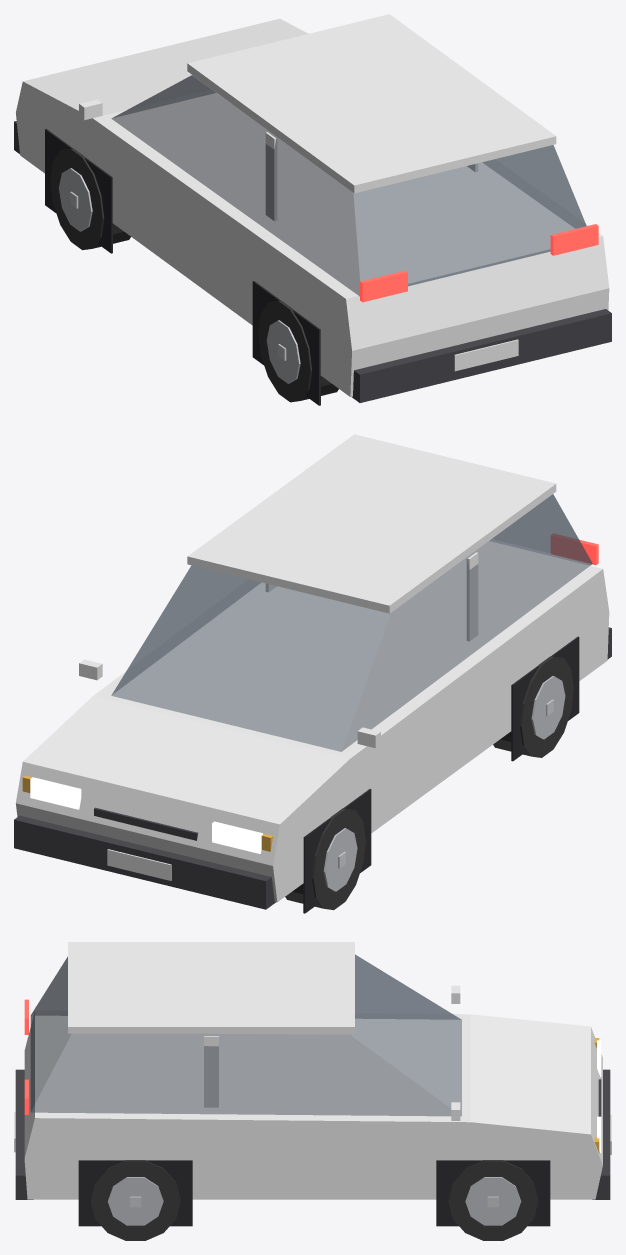
Rendered from compact.glb.
3 views of the same model, one above another, from view 1: azimuth 30°, elevation 25°; view 2: azimuth 150°, elevation 25°; view 3: azimuth 270°, elevation 25° (orthographic). The views are drawn at different scales.
Visible parts, largest first — view 1: body, cabin, roof, bumper_rear, wheel_lf, wheel_lb, arch_lb, arch_lf, plate_rear, pillar_b-1, taillight1, taillight-1; view 2: body, cabin, roof, bumper_front, wheel_lf, wheel_lb, arch_lf, arch_lb, headlight1, plate_front, headlight-1, pillar_b-1 (+2 smaller); view 3: body, cabin, roof, wheel_rf, wheel_rb, arch_rf, arch_rb, bumper_rear, bumper_front, pillar_b1.
Boxes of the visible parts, x1,y1,x2,y2 form: body: [16, 18, 609, 396]; cabin: [111, 75, 586, 296]; roof: [187, 14, 556, 193]; bumper_rear: [352, 309, 611, 402]; wheel_lf: [50, 148, 130, 250]; wheel_lb: [258, 300, 338, 402]; arch_lb: [252, 281, 320, 405]; arch_lf: [45, 128, 112, 253]; plate_rear: [454, 339, 518, 371]; pillar_b-1: [265, 132, 277, 221]; taillight1: [550, 224, 598, 255]; taillight-1: [360, 270, 407, 302]; body: [15, 541, 609, 902]; cabin: [111, 494, 592, 751]; roof: [187, 434, 556, 613]; bumper_front: [14, 815, 275, 909]; wheel_lf: [285, 808, 365, 910]; wheel_lb: [493, 656, 573, 757]; arch_lf: [303, 789, 371, 913]; arch_lb: [511, 636, 579, 761]; headlight1: [30, 777, 81, 809]; plate_front: [107, 849, 171, 880]; headlight-1: [212, 821, 262, 853]; pillar_b-1: [466, 552, 478, 641]; body: [24, 1010, 602, 1199]; cabin: [30, 954, 461, 1116]; roof: [68, 942, 354, 1033]; wheel_rf: [448, 1160, 538, 1240]; wheel_rb: [90, 1160, 180, 1240]; arch_rf: [436, 1160, 550, 1226]; arch_rb: [78, 1160, 192, 1226]; bumper_rear: [15, 1069, 33, 1199]; bumper_front: [592, 1069, 610, 1199]; pillar_b1: [204, 1035, 218, 1107].
Size of the model in its own units: 1.96 by 1.48 by 3.98.
